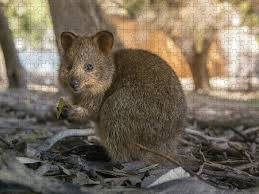quokka: (33, 27, 195, 174)
